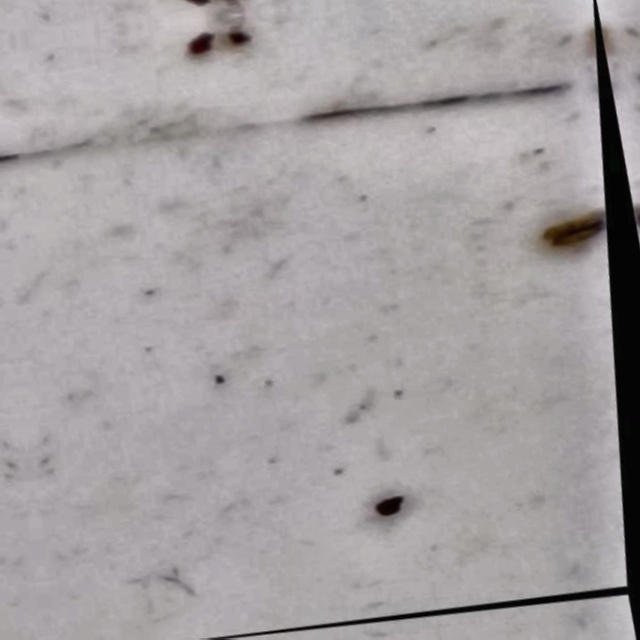varroa: (544, 216, 613, 254)
